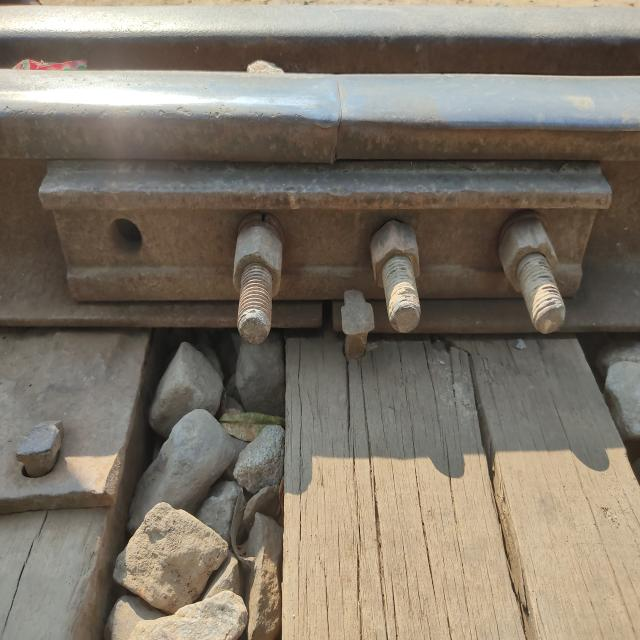Faults: (96, 209, 147, 265)
